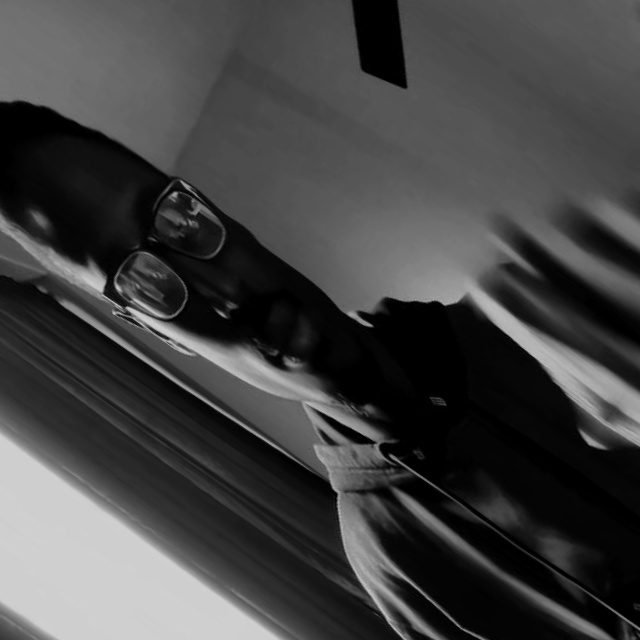Rock: (418, 114, 640, 450)
